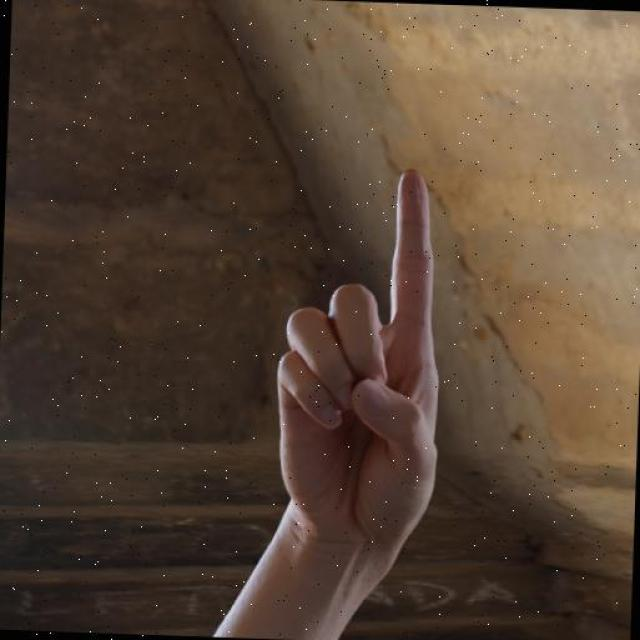D: (265, 157, 455, 567)
